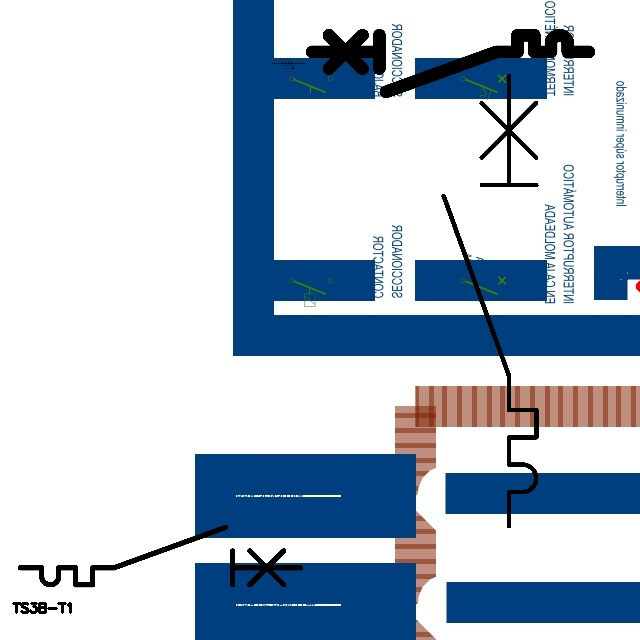interruptor_termomagnetico: (432, 64, 548, 538), (13, 520, 308, 592), (304, 28, 595, 99)
